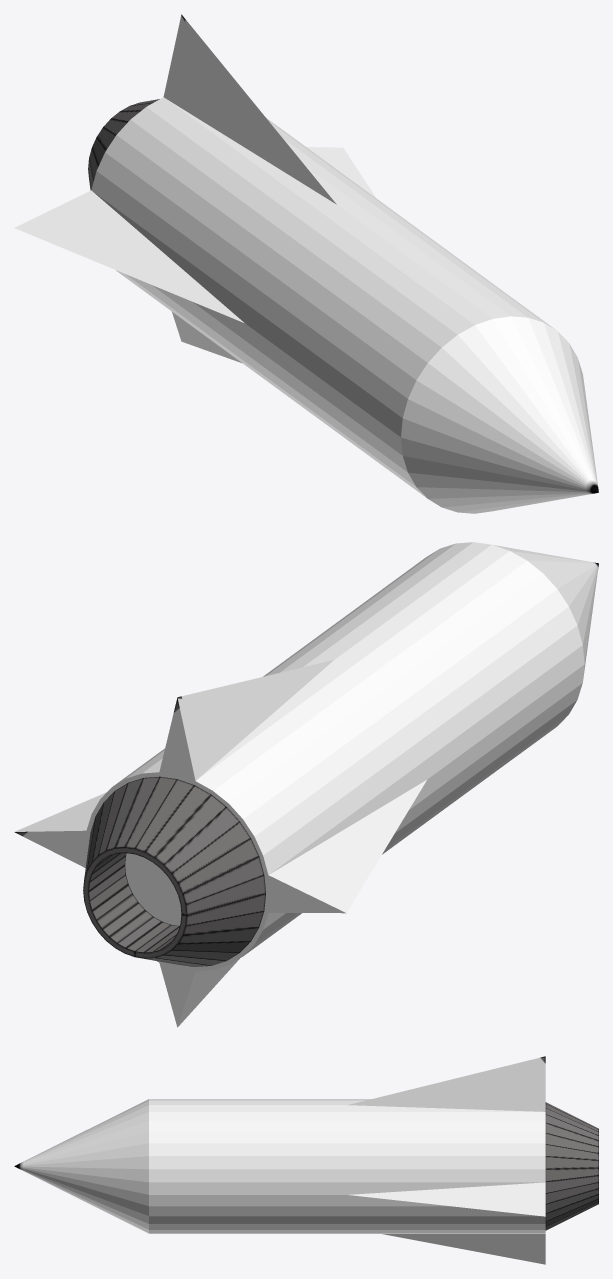
File: playerBullet.obj
3 views of the same model, one above another, from view 1: azimuth 30°, elevation 25°; view 2: azimuth 150°, elevation 25°; view 3: azimuth 270°, elevation 25° (orthographic). The views are drawn at different scales.
Visible parts, largest first — view 1: 円錐.001; view 2: 円錐.001; view 3: 円錐.001.
Part boxes in pixels (box(x1,y1,x2,y2)): 円錐.001: box(14, 14, 598, 513); 円錐.001: box(14, 542, 598, 1027); 円錐.001: box(14, 1056, 598, 1264).
Size of the model in its own units: 2.03 by 1.93 by 4.92.
